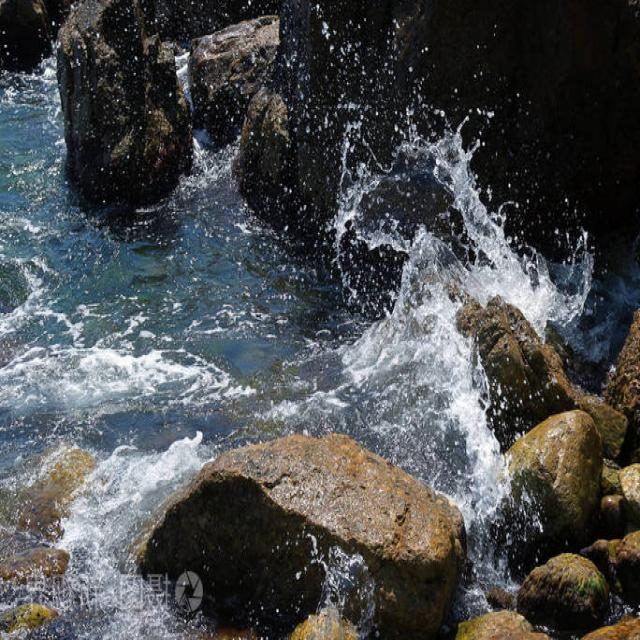reef: (155, 315, 558, 614), (30, 30, 263, 177)
